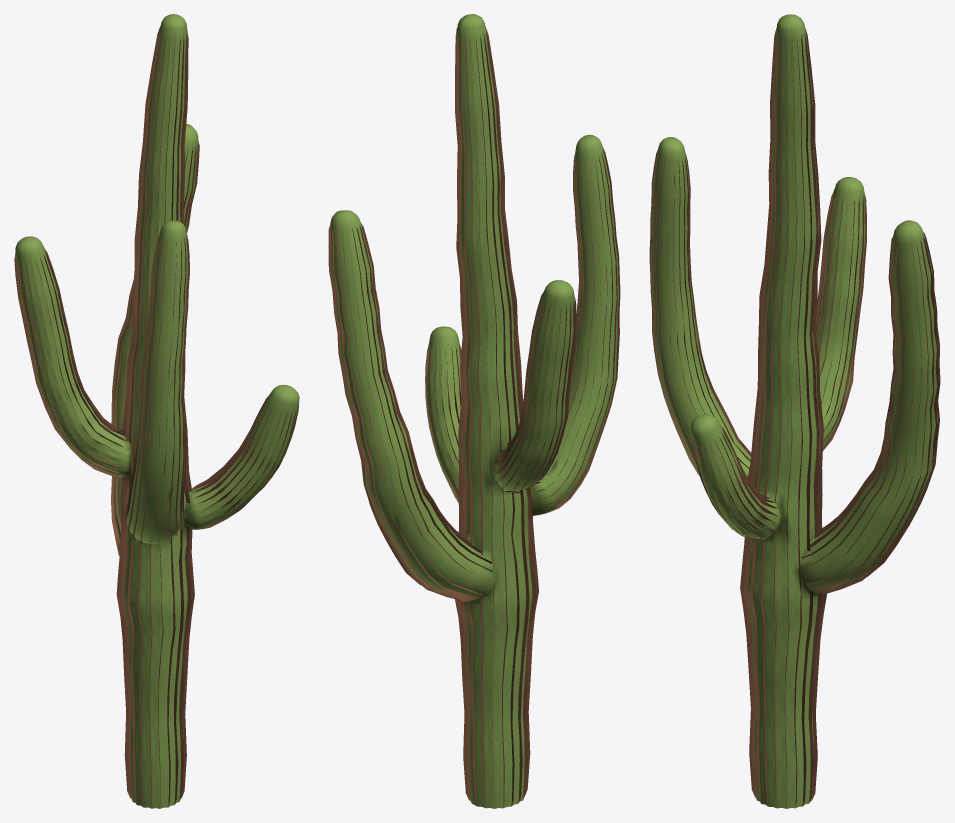
Rendered from cactus_3.fbx.
The picture shows the model from 3 angles, left to right: view 1: azimuth 30°, elevation 25°; view 2: azimuth 150°, elevation 25°; view 3: azimuth 270°, elevation 25°; orthographic projection. The views are drawn at different scales.
Visible parts, largest first — view 1: Succulent_Carnegiea-gigantea_E_spring-summer; view 2: Succulent_Carnegiea-gigantea_E_spring-summer; view 3: Succulent_Carnegiea-gigantea_E_spring-summer.
Part boxes in pixels (<box>): Succulent_Carnegiea-gigantea_E_spring-summer: <box>14,14,299,808</box>; Succulent_Carnegiea-gigantea_E_spring-summer: <box>328,14,620,808</box>; Succulent_Carnegiea-gigantea_E_spring-summer: <box>649,14,940,808</box>.
Bounding box in the file's own units: 69.6 × 243 × 80.83.
